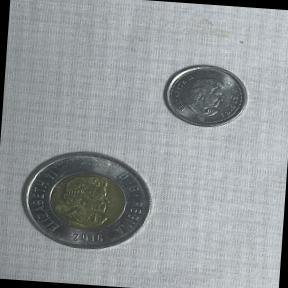coin: (11, 138, 160, 258), (158, 54, 253, 134)
